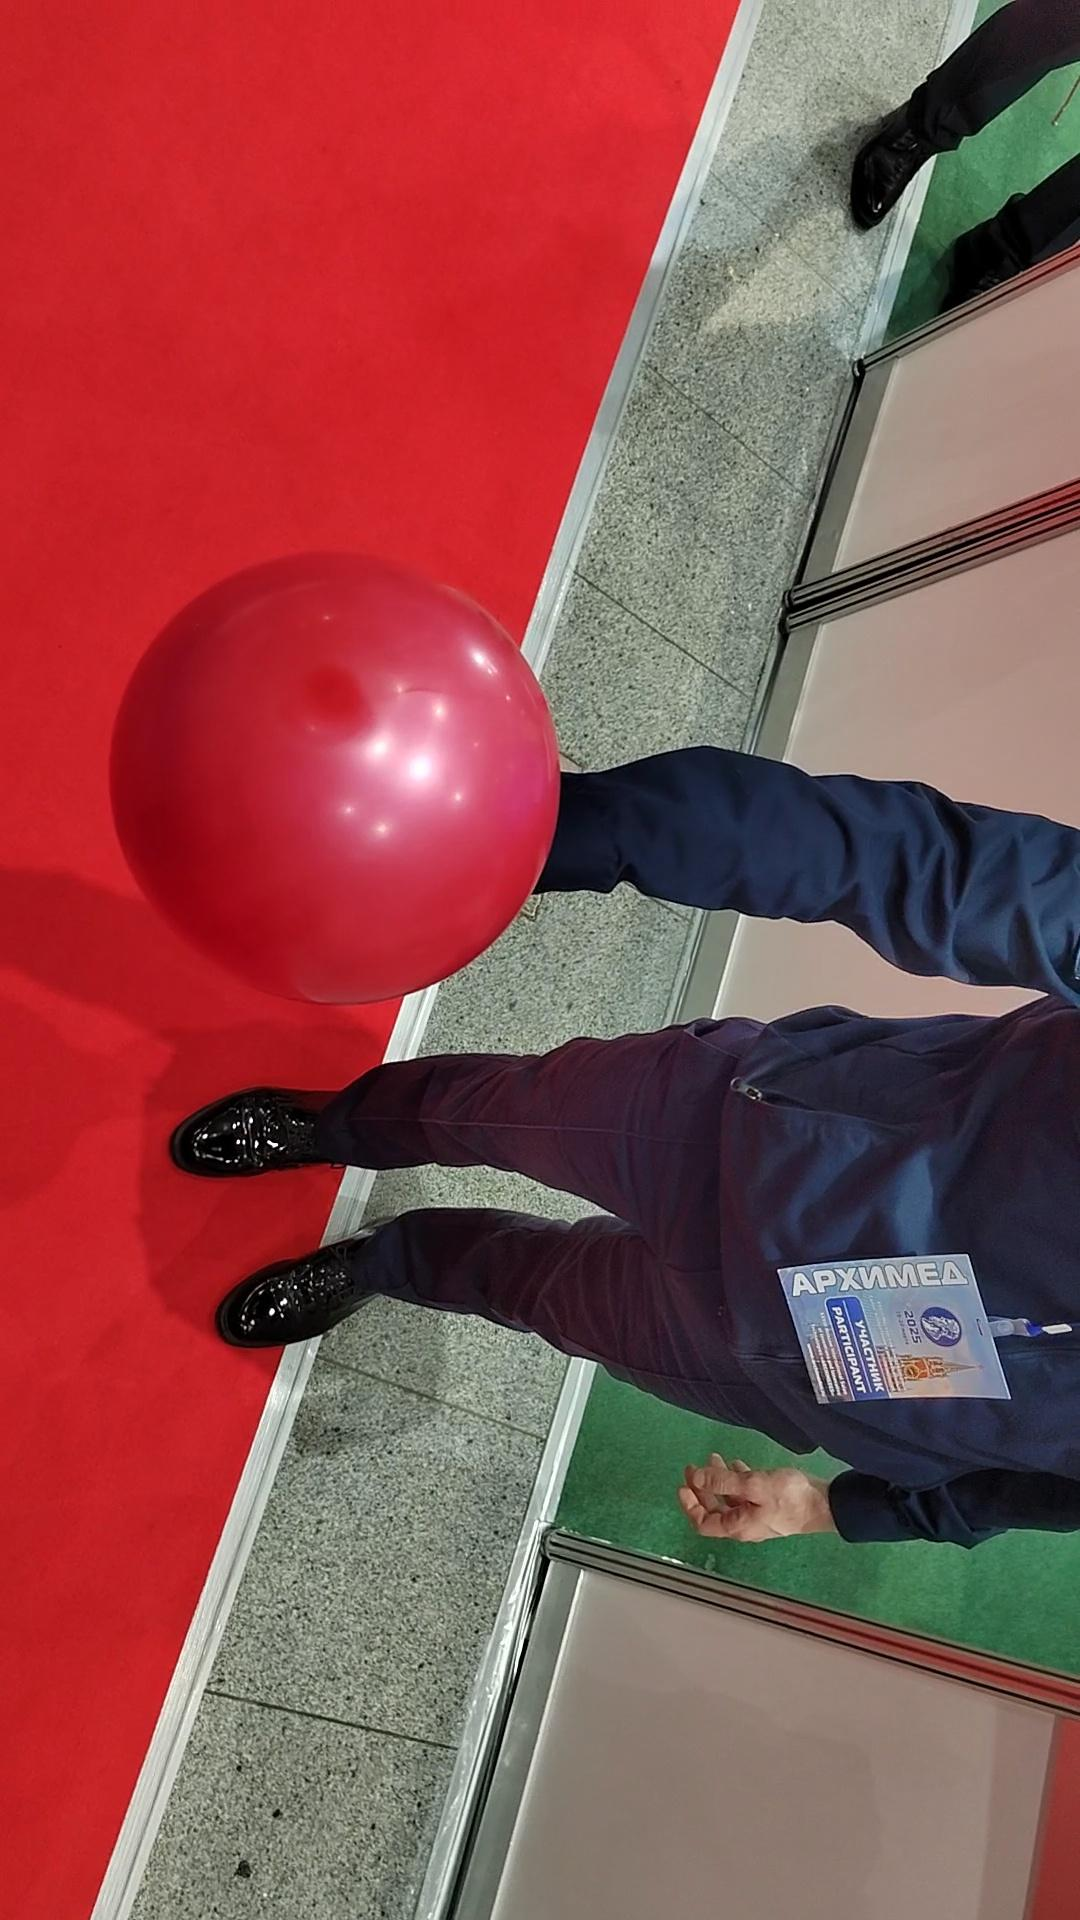red: (103, 547, 568, 1009)
